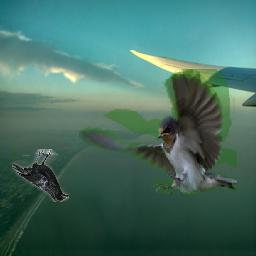Crow: (13, 150, 70, 203)
Swallow: (79, 70, 237, 195)
